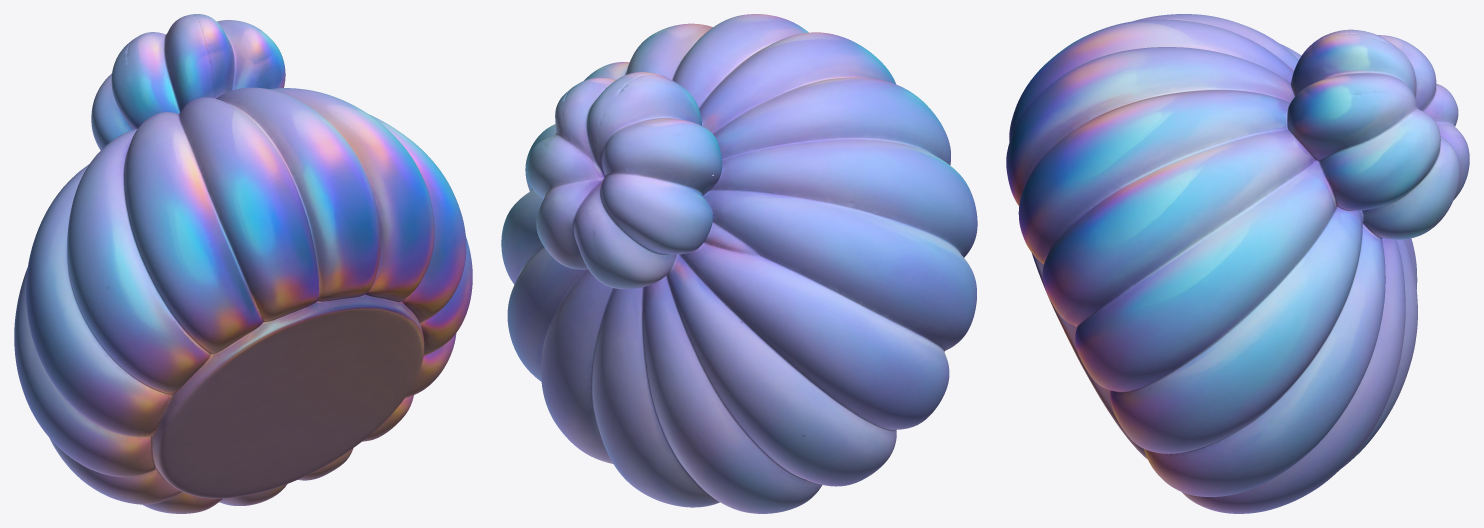
File: bun.glb
The picture shows the model from 3 angles, left to right: view 1: azimuth 30°, elevation 25°; view 2: azimuth 150°, elevation 25°; view 3: azimuth 270°, elevation 25°; orthographic projection. The views are drawn at different scales.
Parts seen in each view (by area): view 1: tripo_node_127dfdc4-10f1-4ec5-b186-d353a59a6474; view 2: tripo_node_127dfdc4-10f1-4ec5-b186-d353a59a6474; view 3: tripo_node_127dfdc4-10f1-4ec5-b186-d353a59a6474.
Part boxes in pixels (box(x1,y1,x2,y2)): tripo_node_127dfdc4-10f1-4ec5-b186-d353a59a6474: box(14, 14, 472, 513); tripo_node_127dfdc4-10f1-4ec5-b186-d353a59a6474: box(501, 14, 977, 513); tripo_node_127dfdc4-10f1-4ec5-b186-d353a59a6474: box(1006, 14, 1469, 513).
Size of the model in its own units: 0.9804 by 1 by 0.8979.
1 material, 1 textured.
